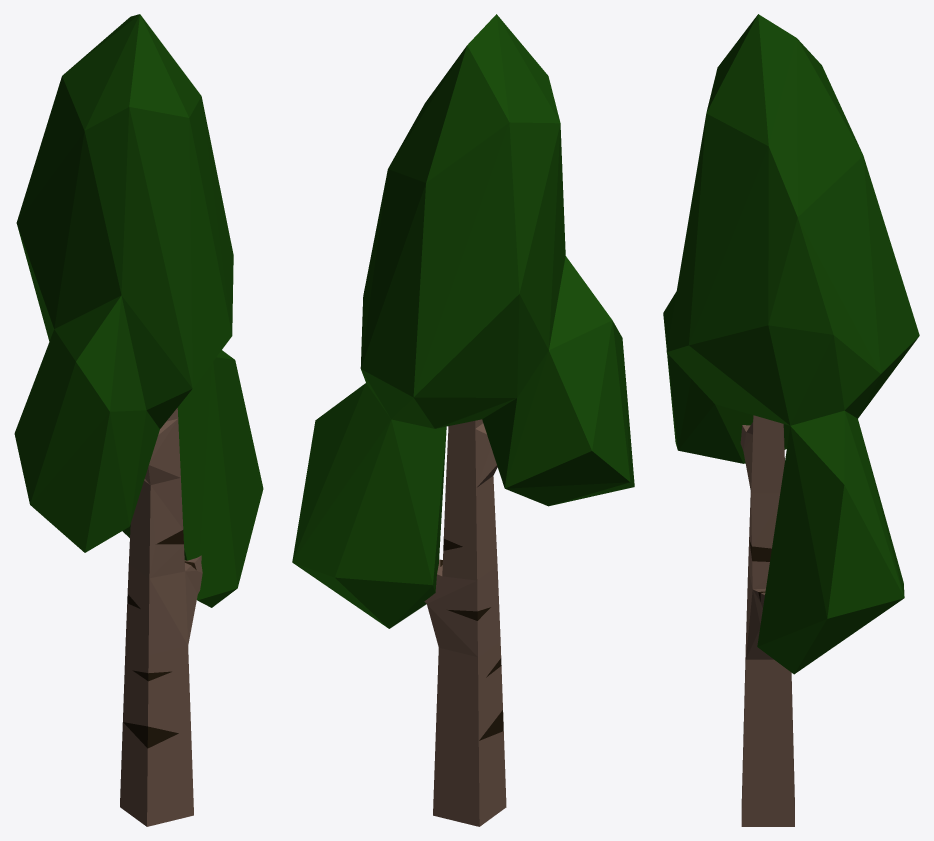
File: SilverBirch2.fbx.glb
3 renders of one model, left to right at view 1: azimuth 30°, elevation 25°; view 2: azimuth 150°, elevation 25°; view 3: azimuth 270°, elevation 25°, orthographic.
Visible parts, largest first — view 1: SilverBirch2; view 2: SilverBirch2; view 3: SilverBirch2.
Part boxes in pixels (left/top/right/bottom): SilverBirch2: left=14, top=14, right=263, bottom=826; SilverBirch2: left=292, top=14, right=634, bottom=826; SilverBirch2: left=663, top=14, right=919, bottom=826.
Size of the model in its own units: 165 by 452 by 133.
